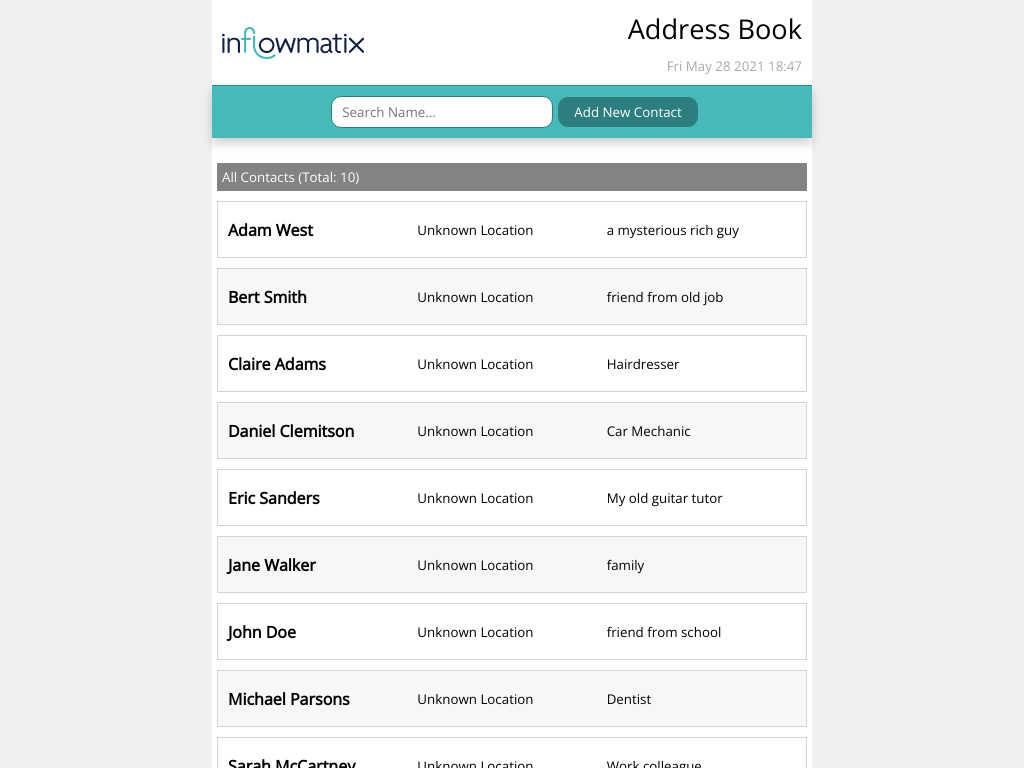
Test: updates contacts › adds a new contact: Aaron Cumberbatch
This screenshot has width=1024, height=768.
Click the button with id "btnAddContact" at (628, 112), box [558,97,697,127]
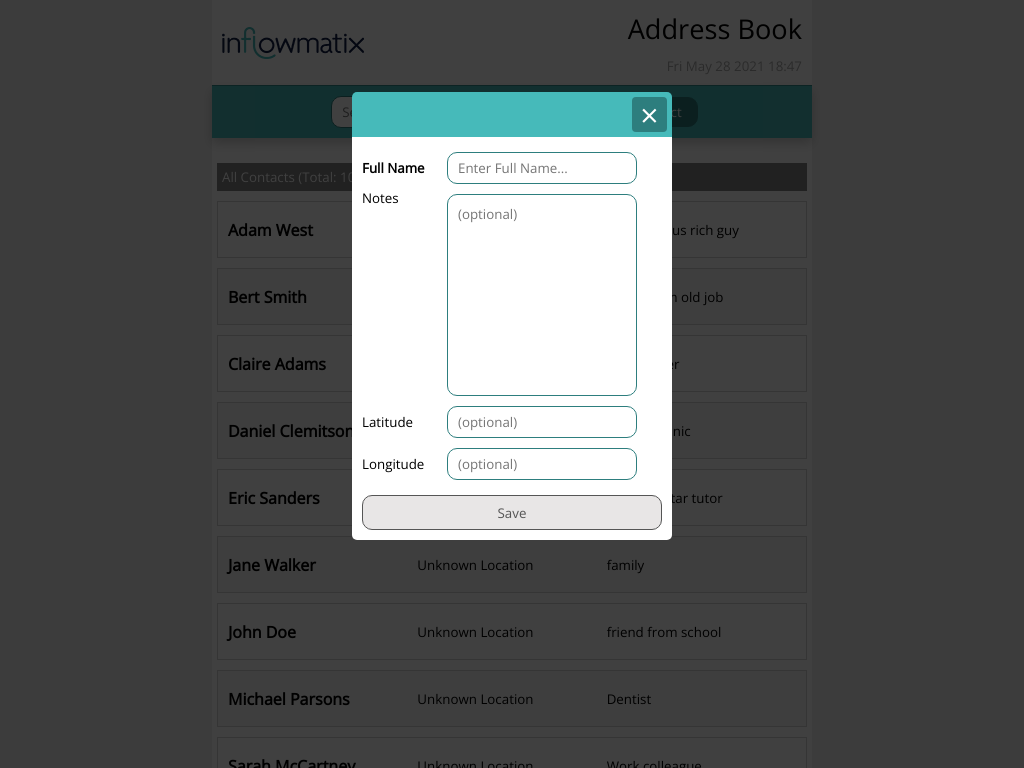
Expected: the element showing "× Full Name Notes Latitude Longitude Save" is shown
Type "Aaron Cumberbatch" into the field with id "txtName" at (542, 168), box [447,152,637,184]
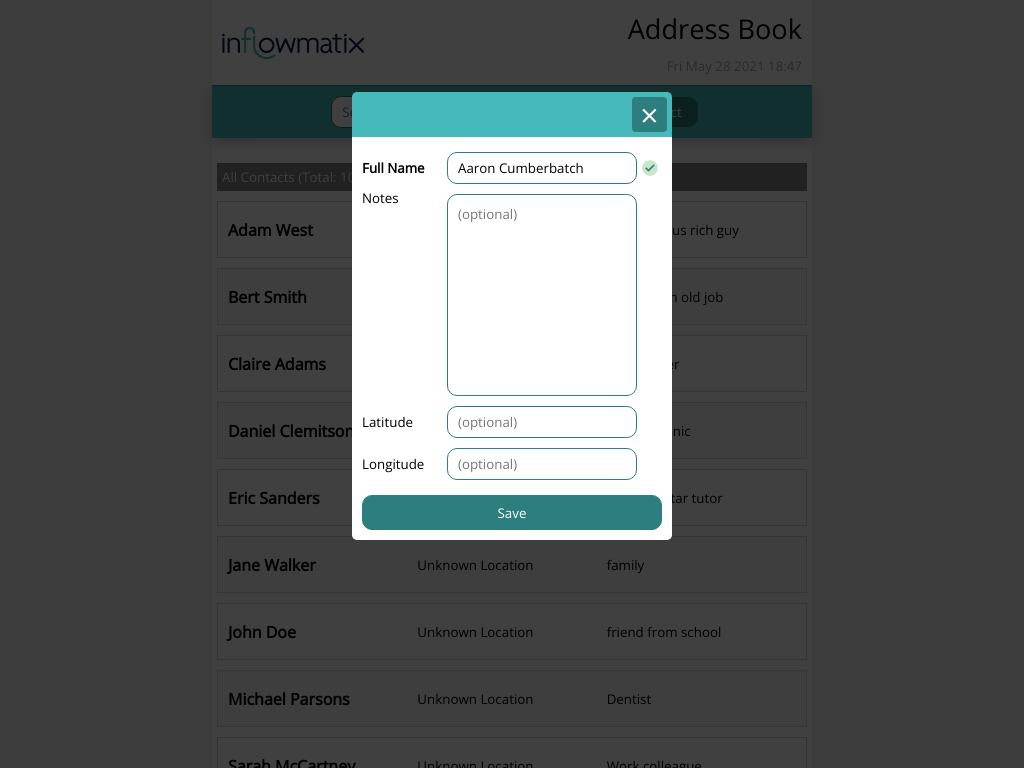
Type "My new best friend :)" into the text box with id "txtNotes" at (542, 295), box [447,194,637,396]
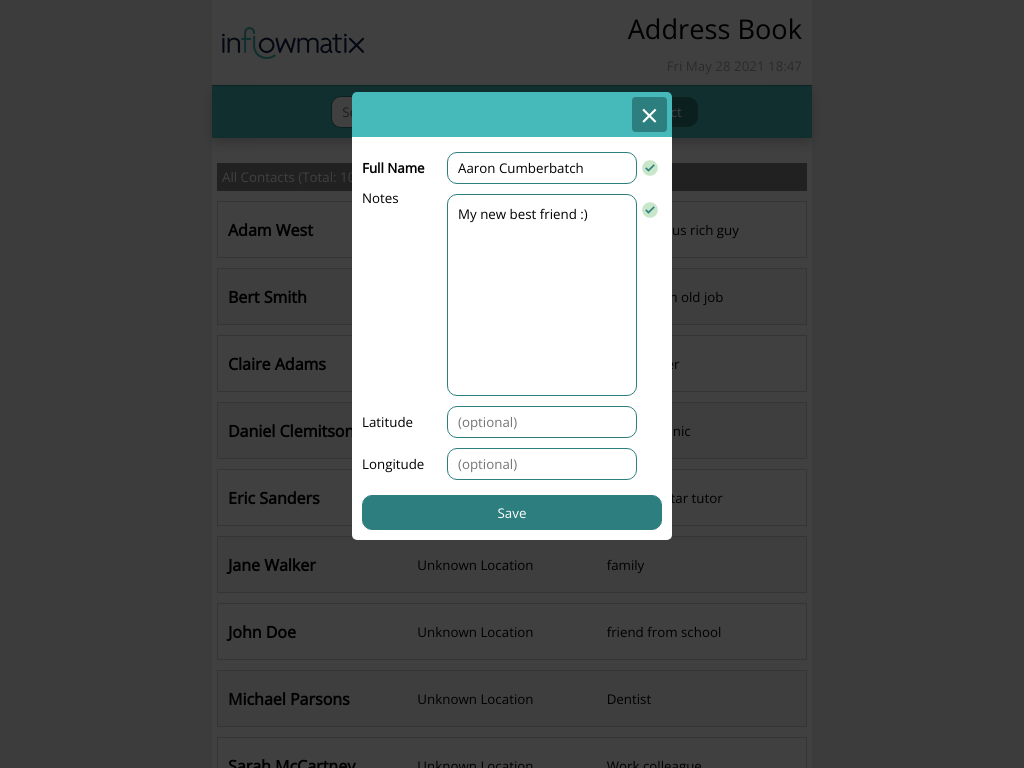
Type "50.96238" into the field with id "txtLatitude" at (542, 422), box [447,406,637,438]
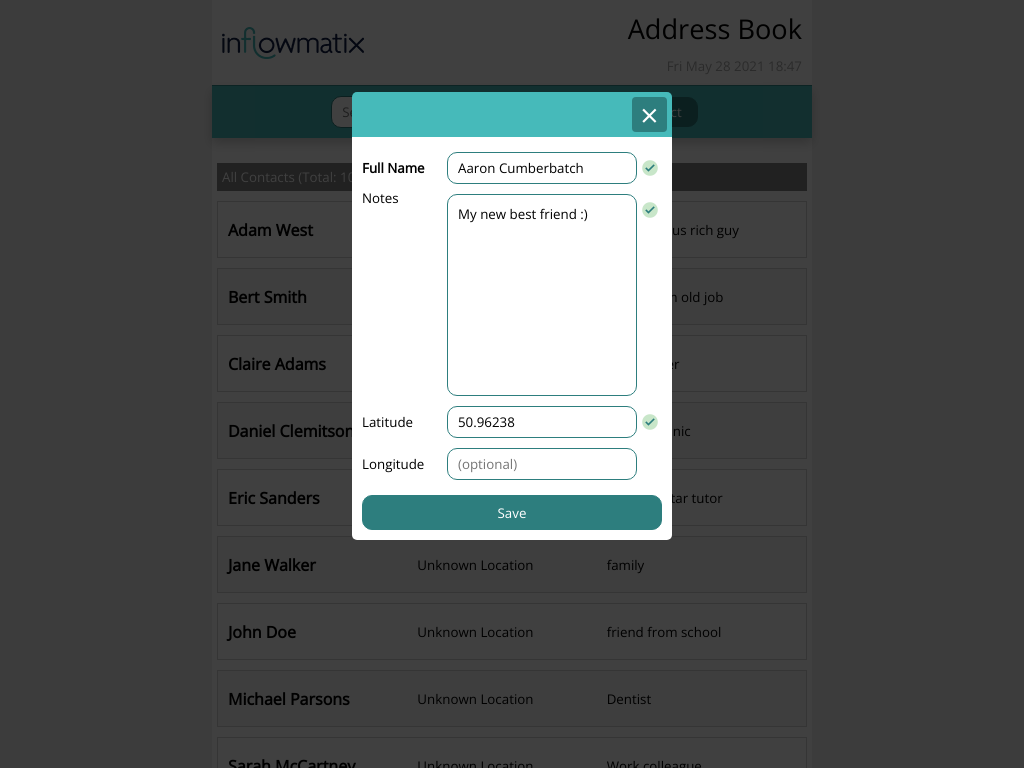
Type "-1.42273" into the field with id "txtLongitude" at (542, 464), box [447,448,637,480]
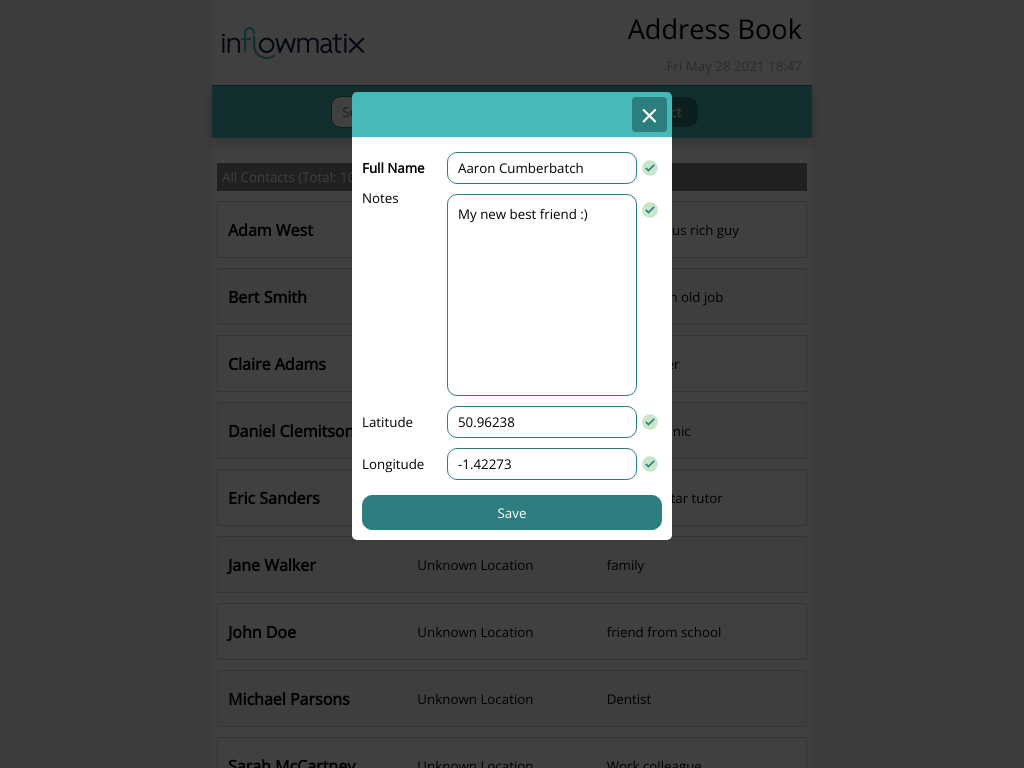
Click the button with id "btnSaveDetails" at (512, 513), box [362,495,662,530]
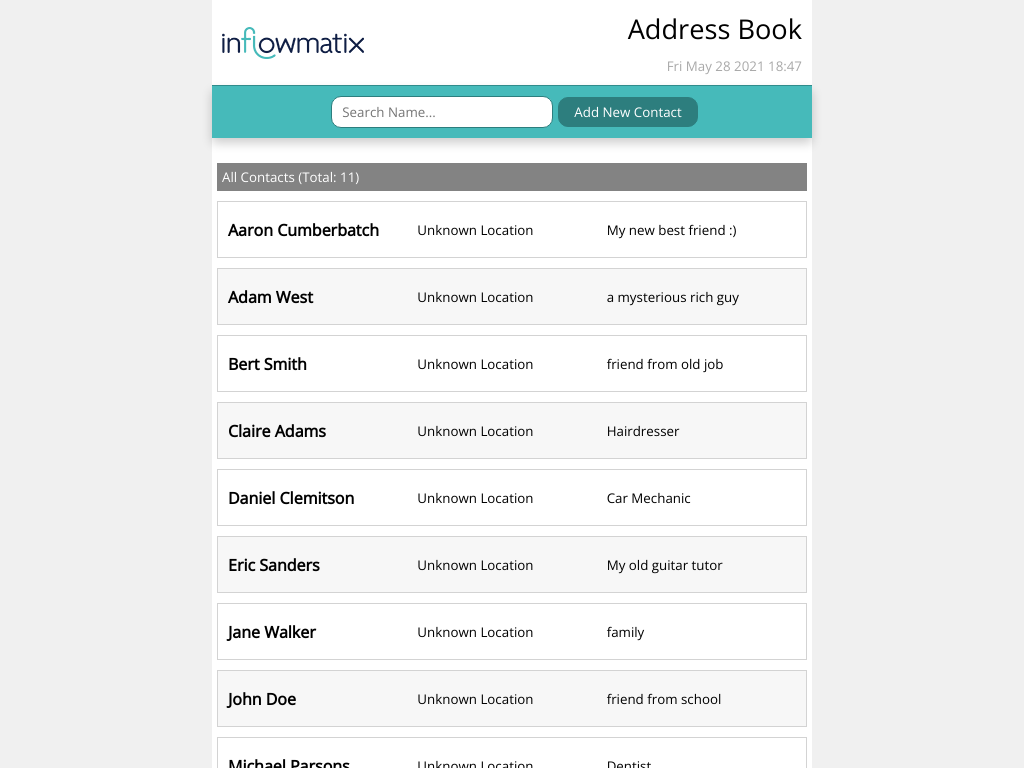
Expected: the text "All Contacts (Total: 11)" is shown, [217,163,807,191]
Expected: the list item with id "Aaron Cumberbatch" is shown, [217,201,807,258]
